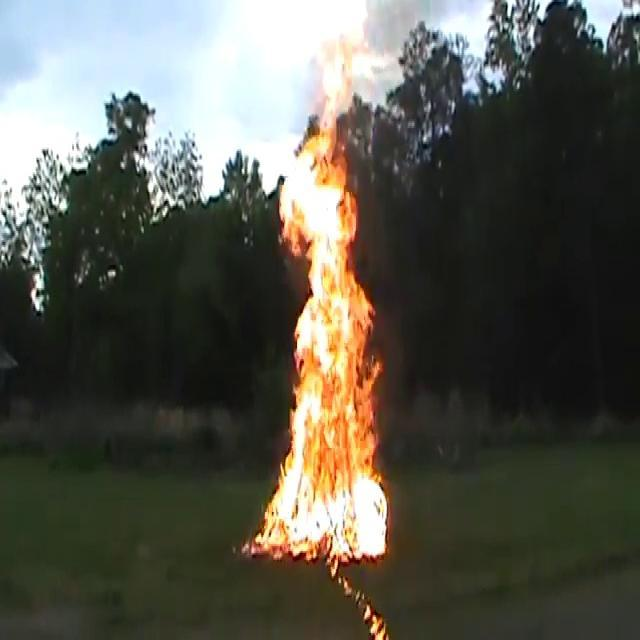Fire: (264, 31, 398, 572)
